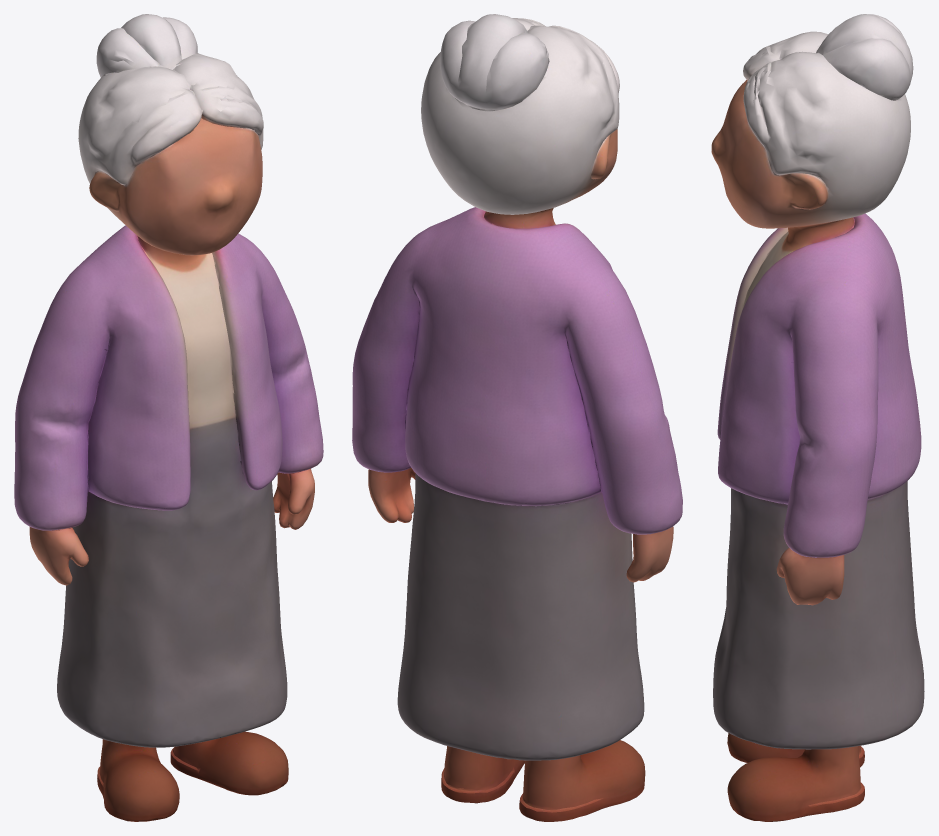
File: grandma.glb
3 renders of one model, left to right at view 1: azimuth 30°, elevation 25°; view 2: azimuth 150°, elevation 25°; view 3: azimuth 270°, elevation 25°, orthographic. The views are drawn at different scales.
Parts seen in each view (by area): view 1: Mesh; view 2: Mesh; view 3: Mesh.
Boxes of the visible parts, bbox=[...] form: Mesh: bbox=[14, 14, 323, 821]; Mesh: bbox=[352, 14, 682, 821]; Mesh: bbox=[711, 14, 924, 821].
Bounding box in the file's own units: 0.7964 × 1.9 × 0.4809.
Materials: 1 (1 with a texture image).
